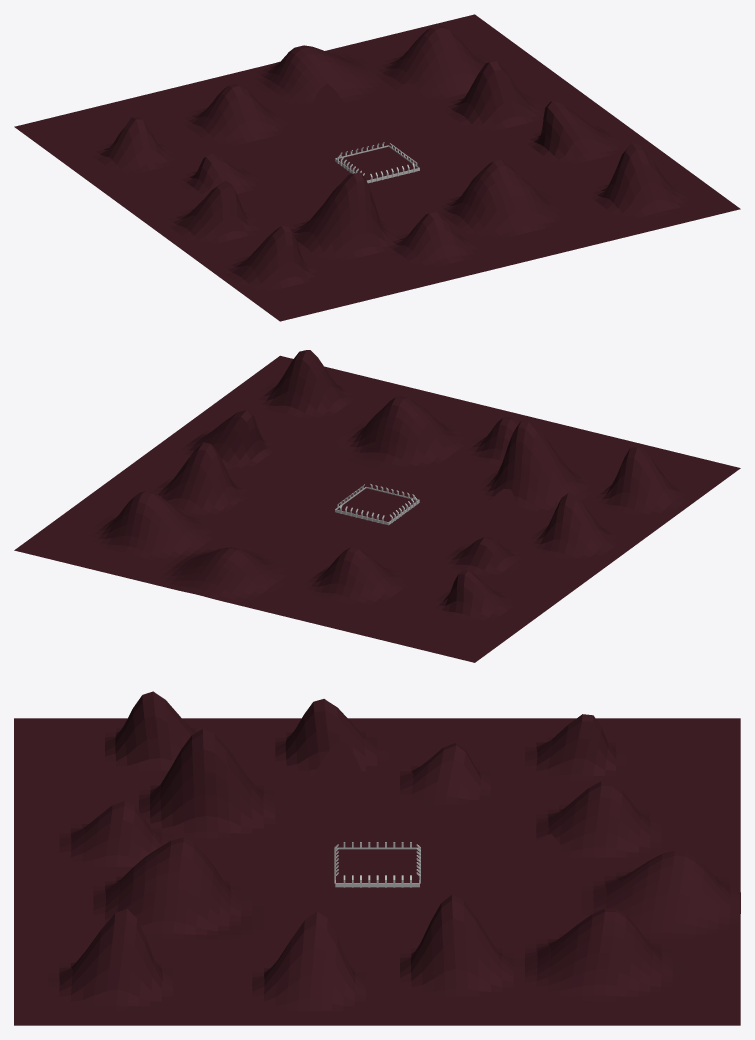
Rendered from environment_v2.fbx.
3 renders of one model, top to bottom at view 1: azimuth 30°, elevation 25°; view 2: azimuth 150°, elevation 25°; view 3: azimuth 270°, elevation 25°, orthographic. The views are drawn at different scales.
Visible parts, largest first — view 1: Cube; view 2: Cube; view 3: Cube.
Boxes of the visible parts, left/top/right/bottom form: Cube: left=14, top=14, right=740, bottom=321; Cube: left=14, top=350, right=740, bottom=662; Cube: left=14, top=691, right=740, bottom=1025.
Size of the model in its own units: 87354 by 11477 by 87378.
